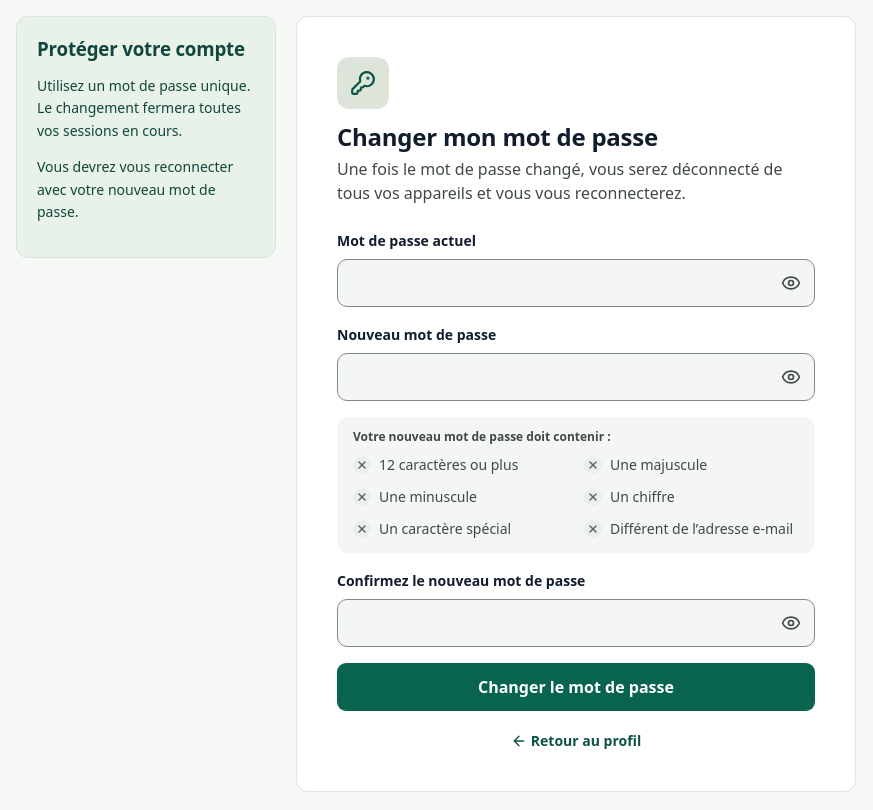
a missing current password is said under its field, nothing sent
The image size is (873, 810).
Expected: the heading "Changer mon mot de passe" is shown, [337, 125, 658, 149]
Step 1. Type "Nouveau-Mot-2026!" into the password field labelled "Nouveau mot de passe" → (576, 377), box [337, 353, 815, 401]
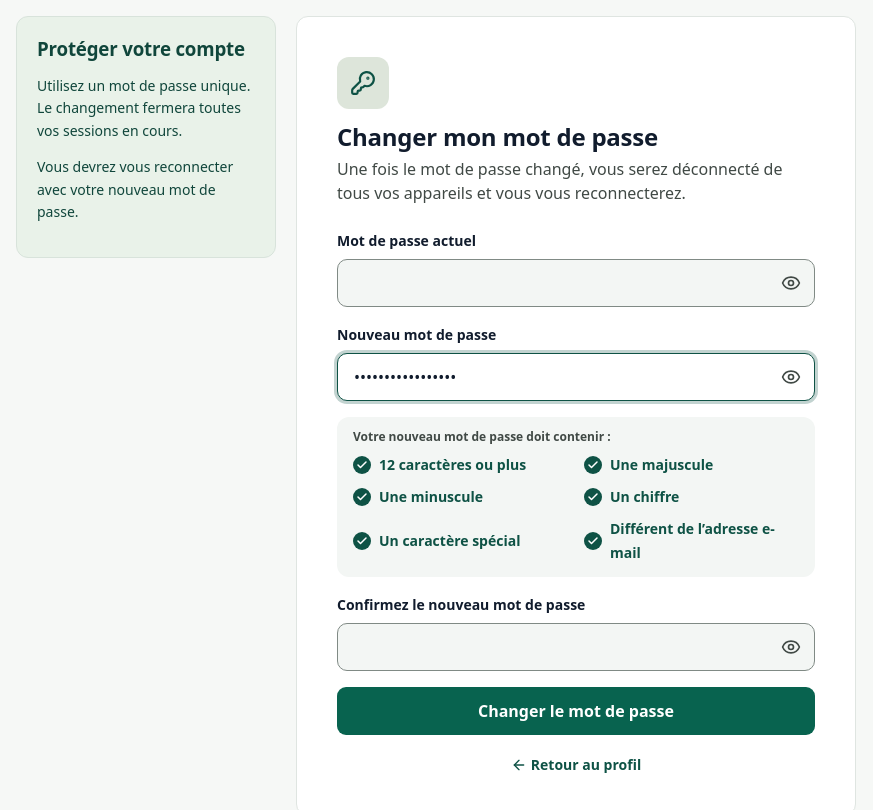
Step 2. Type "Nouveau-Mot-2026!" into the password field labelled "Confirmez le nouveau mot de passe" → (576, 647), box [337, 623, 815, 671]
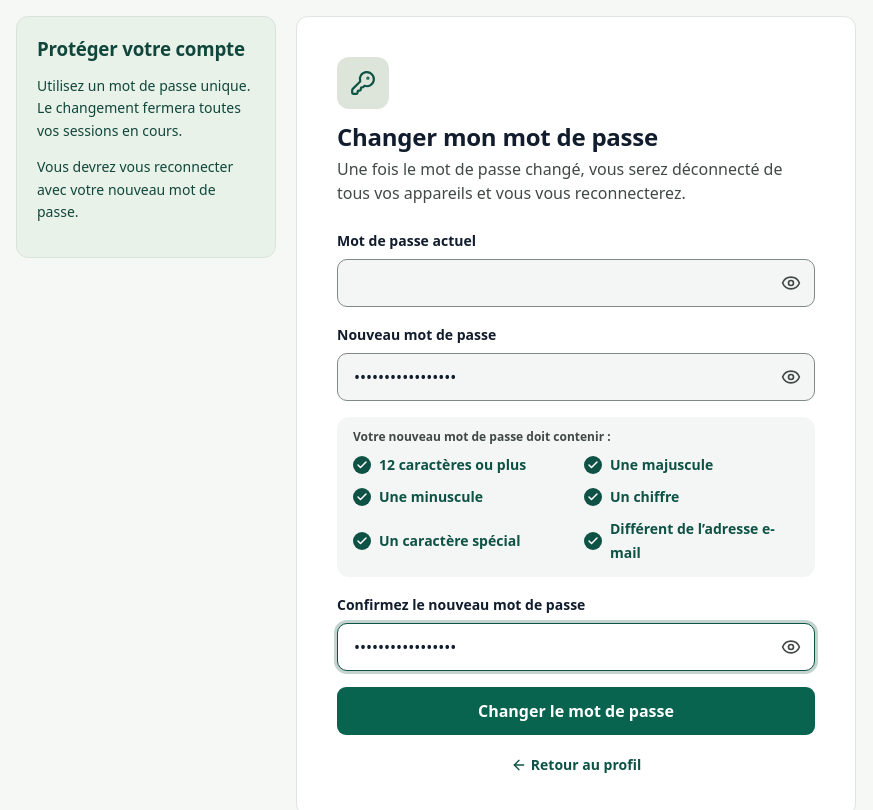
Step 3. Click the button "Changer le mot de passe" → (576, 711), box [337, 687, 815, 735]
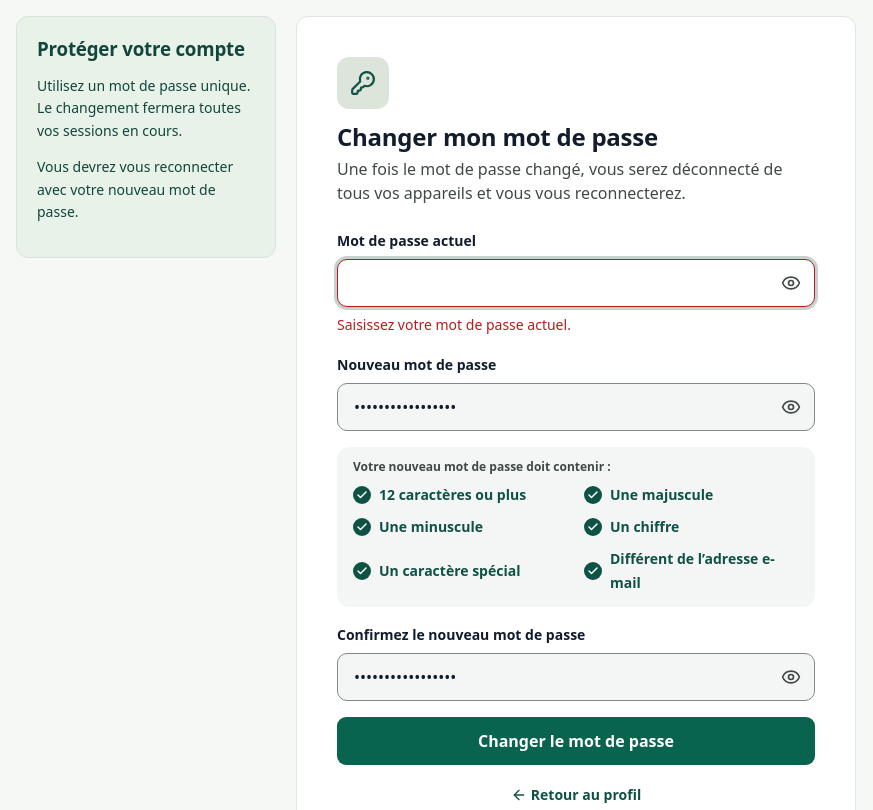
Now the text "Saisissez votre mot de passe actuel." is shown, box [337, 315, 571, 334]
